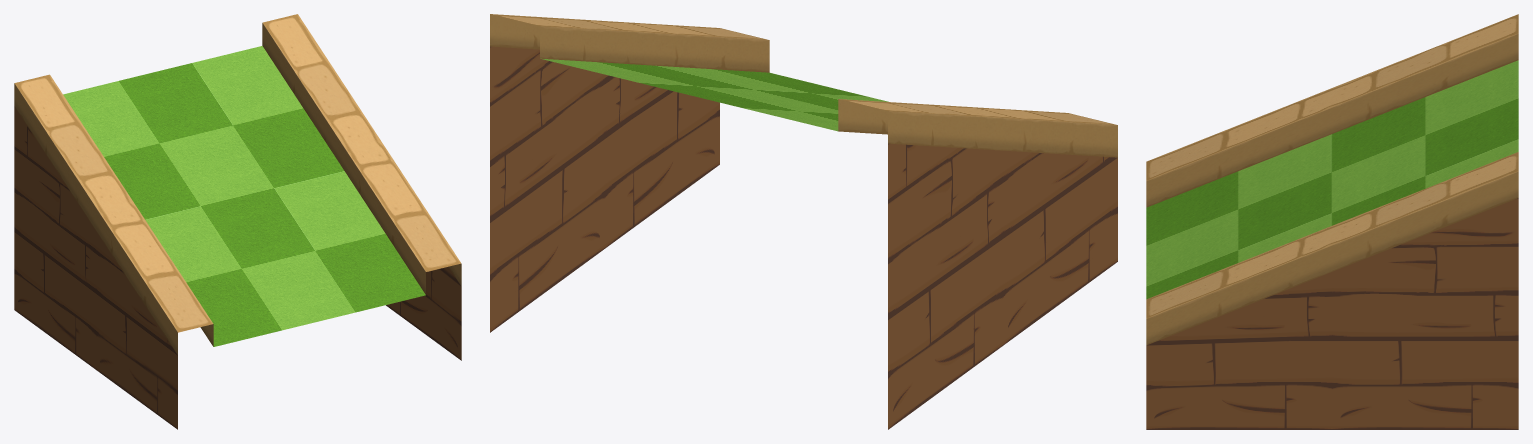
File: tile17.FBX
The picture shows the model from 3 angles, left to right: view 1: azimuth 30°, elevation 25°; view 2: azimuth 150°, elevation 25°; view 3: azimuth 270°, elevation 25°; orthographic projection. The views are drawn at different scales.
Visible parts, largest first — view 1: tile17_floor, tile17_walls; view 2: tile17_walls, tile17_floor; view 3: tile17_walls, tile17_floor.
Boxes of the visible parts, x1,y1,x2,y2 form: tile17_floor: [63, 46, 425, 346]; tile17_walls: [14, 14, 461, 429]; tile17_walls: [490, 14, 1117, 429]; tile17_floor: [540, 58, 888, 131]; tile17_walls: [1146, 14, 1518, 429]; tile17_floor: [1146, 60, 1518, 299].
Size of the model in its own units: 1280 by 980 by 1280.
